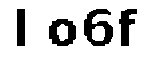6: (83, 6, 113, 51)
f: (117, 6, 140, 48)
l: (10, 6, 32, 49)
o: (42, 16, 79, 50)
